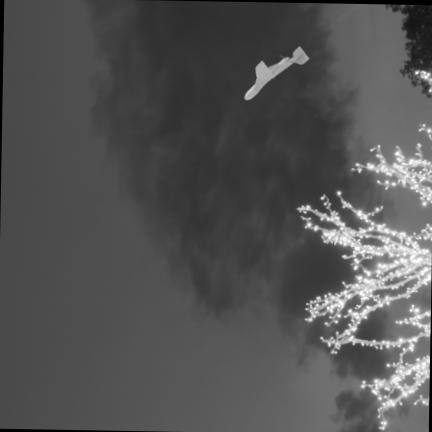Shahed: (246, 45, 308, 98)
